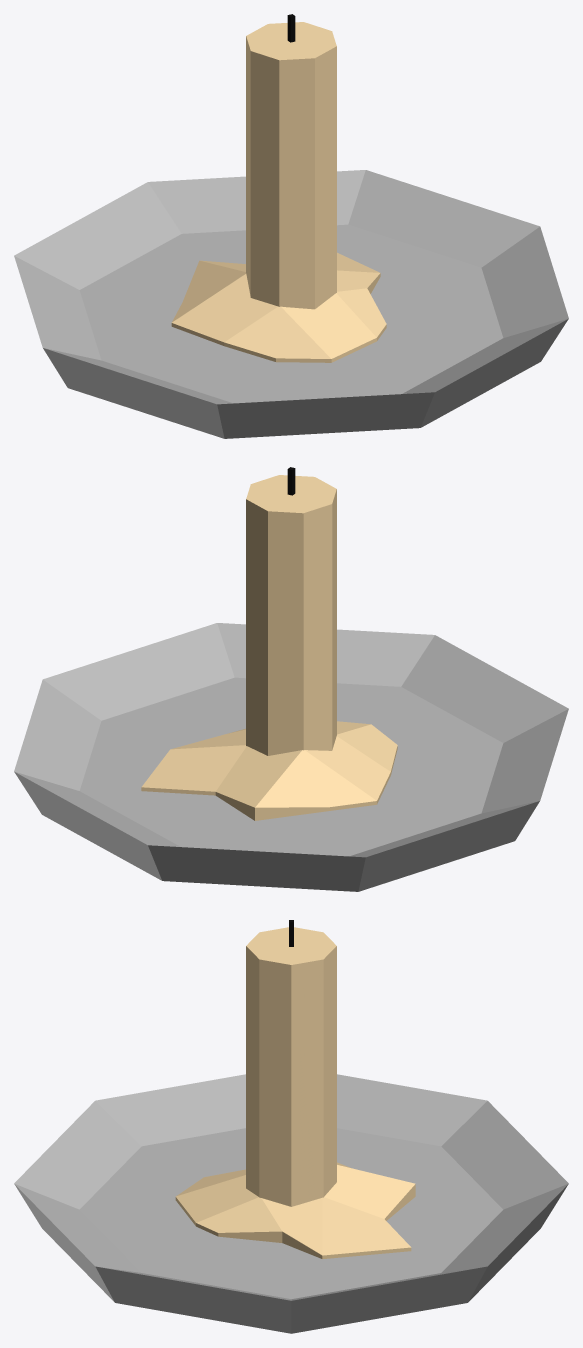
The model's file is candle.fbx.
3 views of the same model, one above another, from view 1: azimuth 30°, elevation 25°; view 2: azimuth 150°, elevation 25°; view 3: azimuth 270°, elevation 25° (orthographic). The views are drawn at different scales.
Parts seen in each view (by area): view 1: candle; view 2: candle; view 3: candle.
Part boxes in pixels (x1,y1,x2,y2): candle: (14,14,568,438); candle: (14,467,568,891); candle: (14,920,568,1333).
Size of the model in its own units: 43.56 by 27.17 by 43.56.
